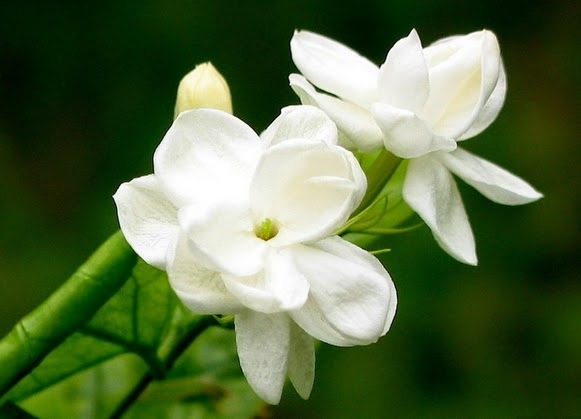jasmine: (92, 71, 403, 403), (278, 6, 541, 265)
